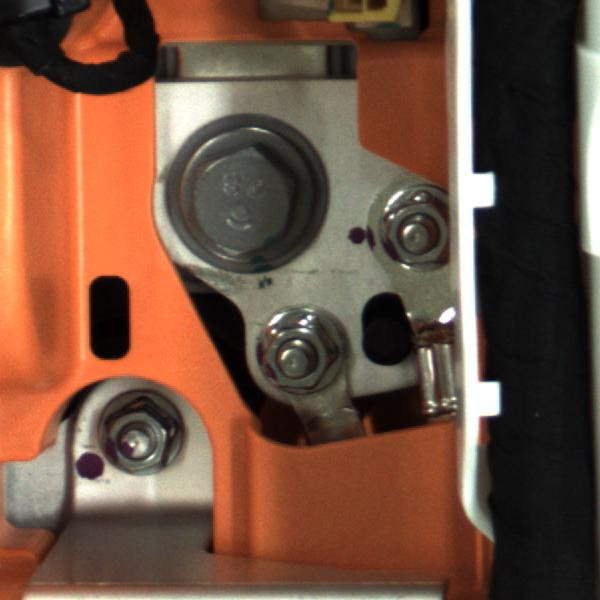nut_b: (163, 108, 329, 275)
screw_s: (243, 306, 351, 406), (77, 391, 192, 482), (373, 188, 455, 270)
